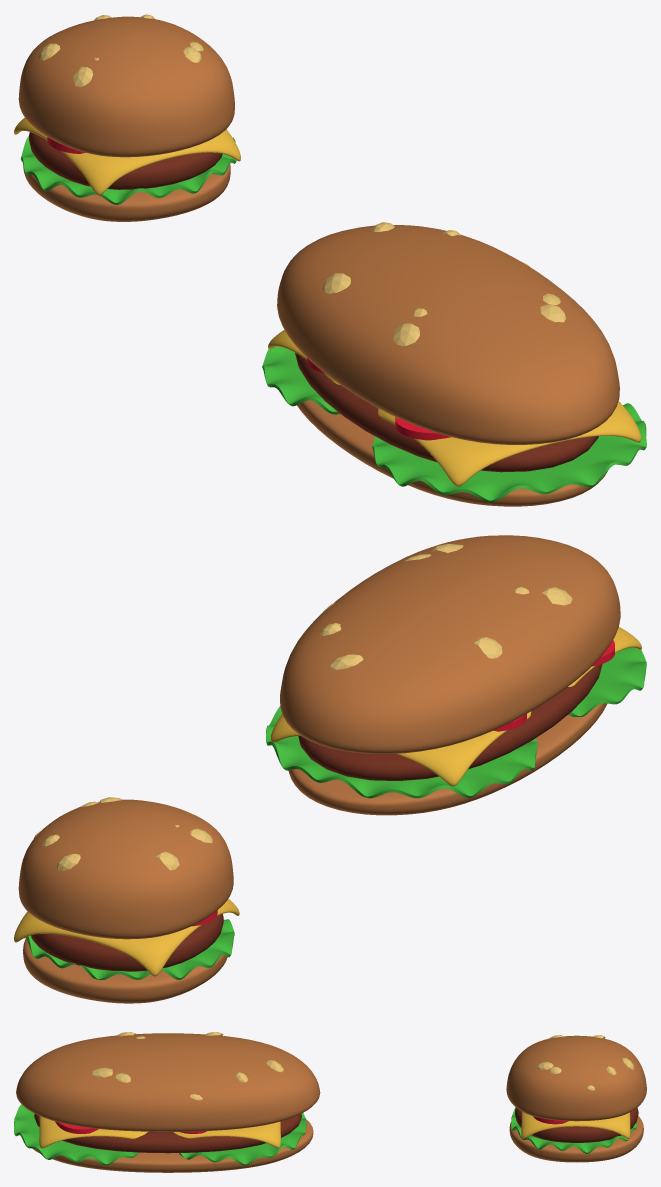
File: low poly burger.fbx
The picture shows the model from 3 angles, top to bottom: view 1: azimuth 30°, elevation 25°; view 2: azimuth 150°, elevation 25°; view 3: azimuth 270°, elevation 25°; orthographic projection. The views are drawn at different scales.
Visible parts, largest first — view 1: Cube.011, Cube.001, Окружность.006, Cube.010, Cube.003, Cube.009, Куб.070, Cube.002, Куб.002, Окружность.004, Окружность.002; view 2: Cube.011, Cube.001, Cube.010, Cube.009, Окружность.002, Cube.003, Cube.002, Куб.002, Куб.001, Окружность.006, Окружность.004; view 3: Cube.011, Cube.001, Cube.010, Cube.009, Окружность.006, Cube.003, Окружность.002, Cube.002, Куб.002, Куб.070, Куб.001, Окружность.004 (+1 smaller).
Boxes of the visible parts, x1,y1,x2,y2 form: Cube.011: (277, 225, 619, 444); Cube.001: (18, 16, 234, 157); Окружность.006: (372, 403, 646, 502); Cube.010: (295, 352, 598, 472); Cube.003: (23, 164, 230, 221); Cube.009: (297, 400, 607, 506); Куб.070: (378, 401, 641, 486); Cube.002: (29, 132, 222, 189); Куб.002: (14, 117, 240, 195); Окружность.004: (20, 129, 236, 204); Окружность.002: (262, 346, 340, 414); Cube.011: (280, 535, 620, 753); Cube.001: (18, 799, 233, 939); Cube.010: (298, 664, 602, 780); Cube.009: (288, 703, 607, 815); Окружность.002: (266, 706, 537, 798); Cube.003: (23, 938, 227, 1003); Cube.002: (31, 914, 223, 971); Куб.002: (14, 899, 239, 976); Куб.001: (271, 711, 531, 786); Окружность.006: (568, 647, 646, 716); Окружность.004: (24, 919, 234, 979); Cube.011: (16, 1033, 320, 1131); Cube.001: (506, 1035, 646, 1121); Cube.010: (34, 1113, 301, 1153); Cube.009: (32, 1120, 313, 1172); Окружность.006: (14, 1104, 138, 1165); Cube.003: (509, 1116, 643, 1162); Окружность.002: (179, 1113, 306, 1165); Cube.002: (515, 1107, 638, 1142); Куб.002: (521, 1111, 630, 1138); Куб.070: (39, 1116, 148, 1148); Куб.001: (173, 1121, 280, 1148); Окружность.004: (511, 1107, 637, 1153).
Bounding box in the file's own units: 27.01 × 16.65 × 95.85.
